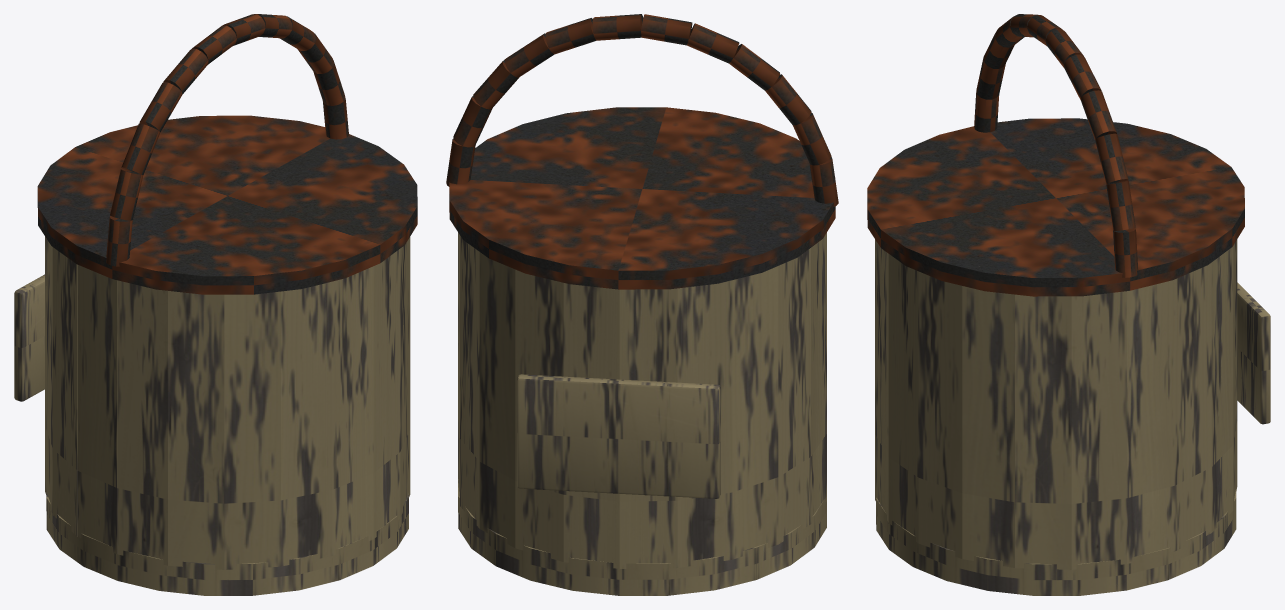
File: SM_PaintCan_Closed_f66506cfe7.fbx
3 views of the same model, side by side, from view 1: azimuth 30°, elevation 25°; view 2: azimuth 150°, elevation 25°; view 3: azimuth 270°, elevation 25° (orthographic). The views are drawn at different scales.
Visible parts, largest first — view 1: SM_PaintCan_Closed_f66506cfe7; view 2: SM_PaintCan_Closed_f66506cfe7; view 3: SM_PaintCan_Closed_f66506cfe7.
Boxes of the visible parts, x1,y1,x2,y2 form: SM_PaintCan_Closed_f66506cfe7: (14, 14, 417, 595); SM_PaintCan_Closed_f66506cfe7: (446, 14, 838, 595); SM_PaintCan_Closed_f66506cfe7: (867, 14, 1270, 595).
Size of what is drawn, in the model's own units: 25.97 by 27.74 by 37.29.
2 materials, 2 textured.
